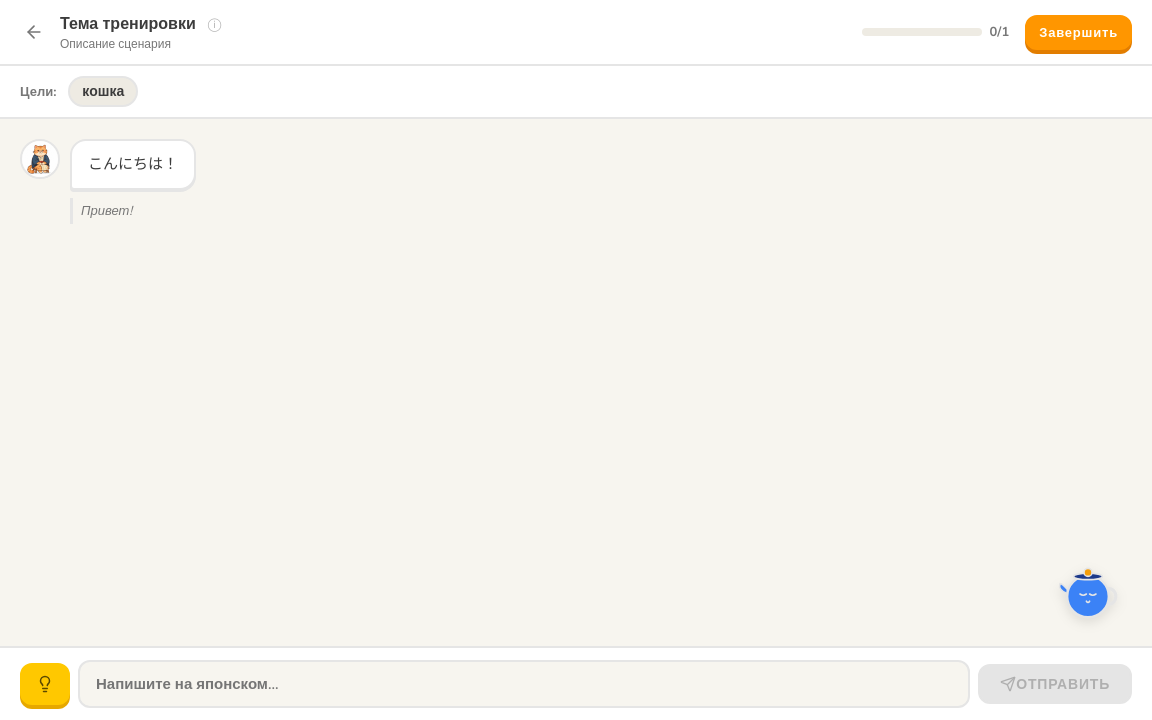
Self-Repair and Scaffolding Hint UI Tests › клик по Показать правку раскрывает correction с ruby-разметкой
Check: the heading "Тема тренировки ⓘ" is shown, box [60, 12, 225, 36]
Check: the text "こんにちは！" is shown, box [88, 154, 178, 174]
Type "公園に遊びます。" into the text box with placeholder "Напишите на японском..." at [524, 684], box [78, 660, 970, 708]
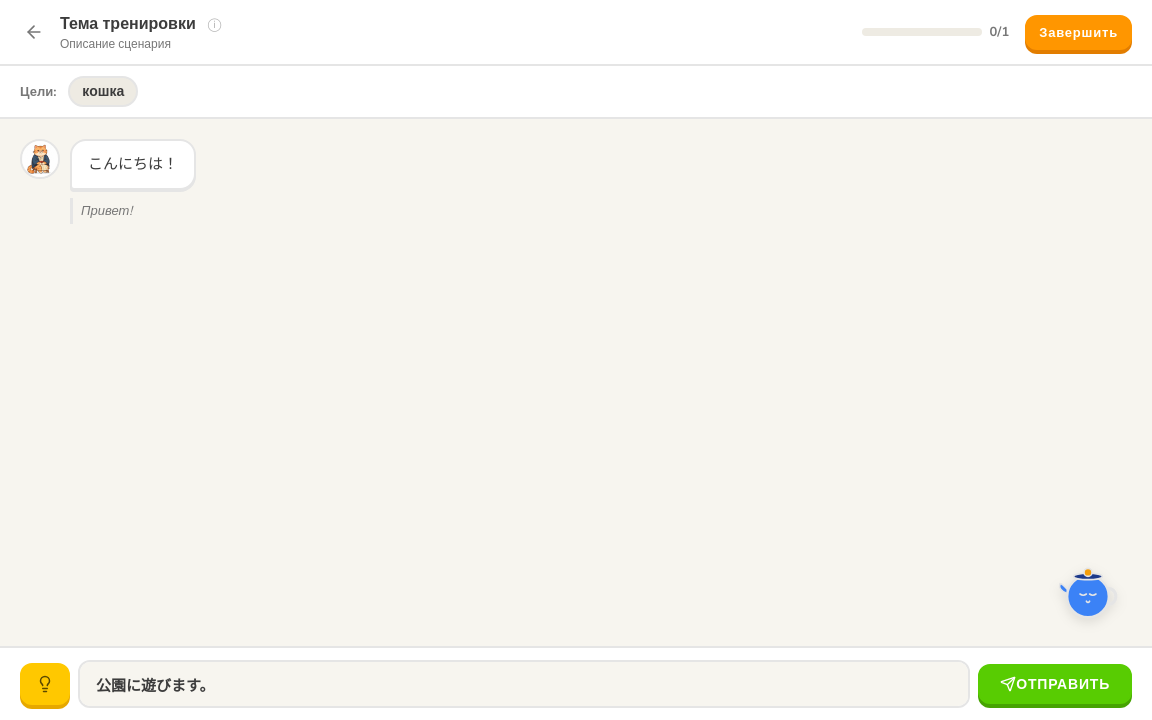
Click the button "Отправить" at [1055, 684], box [978, 664, 1132, 704]
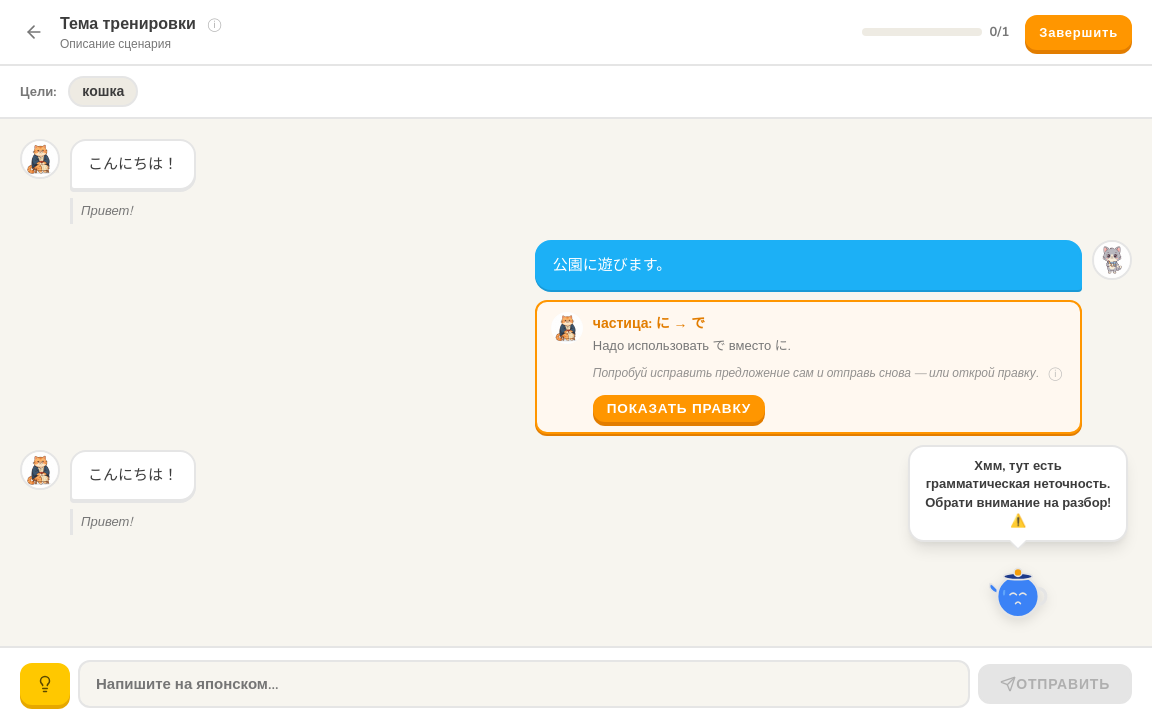
Check: the button "Показать правку" is shown
# Click "Показать правку"
Click the button "Показать правку" at [679, 409], box [593, 395, 765, 422]
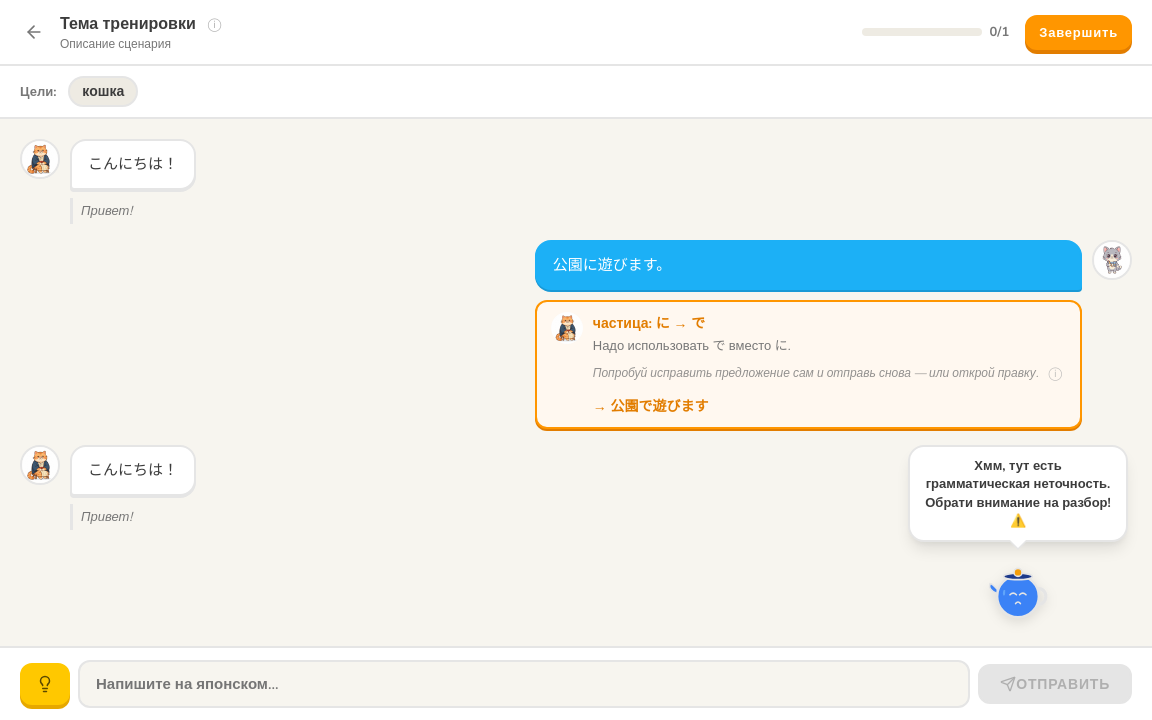
Check: the text "公園で遊びます" is shown, box [610, 397, 708, 416]
Check: the button "Показать правку" is gone
